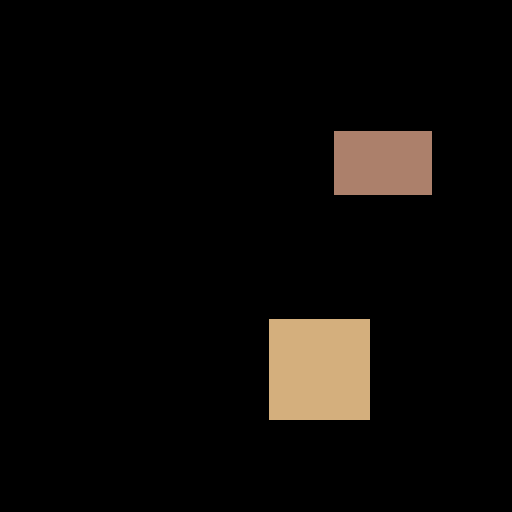rectangle: (334, 131, 431, 194)
square: (269, 319, 369, 419)
